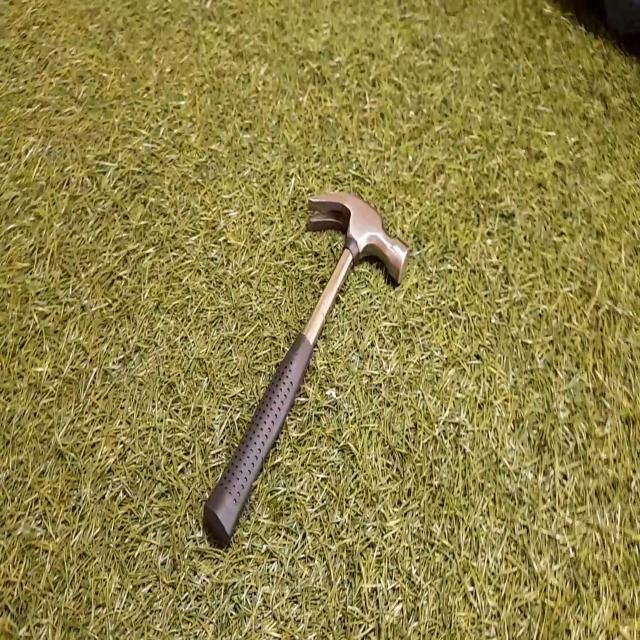hammer: (202, 193, 410, 550)
